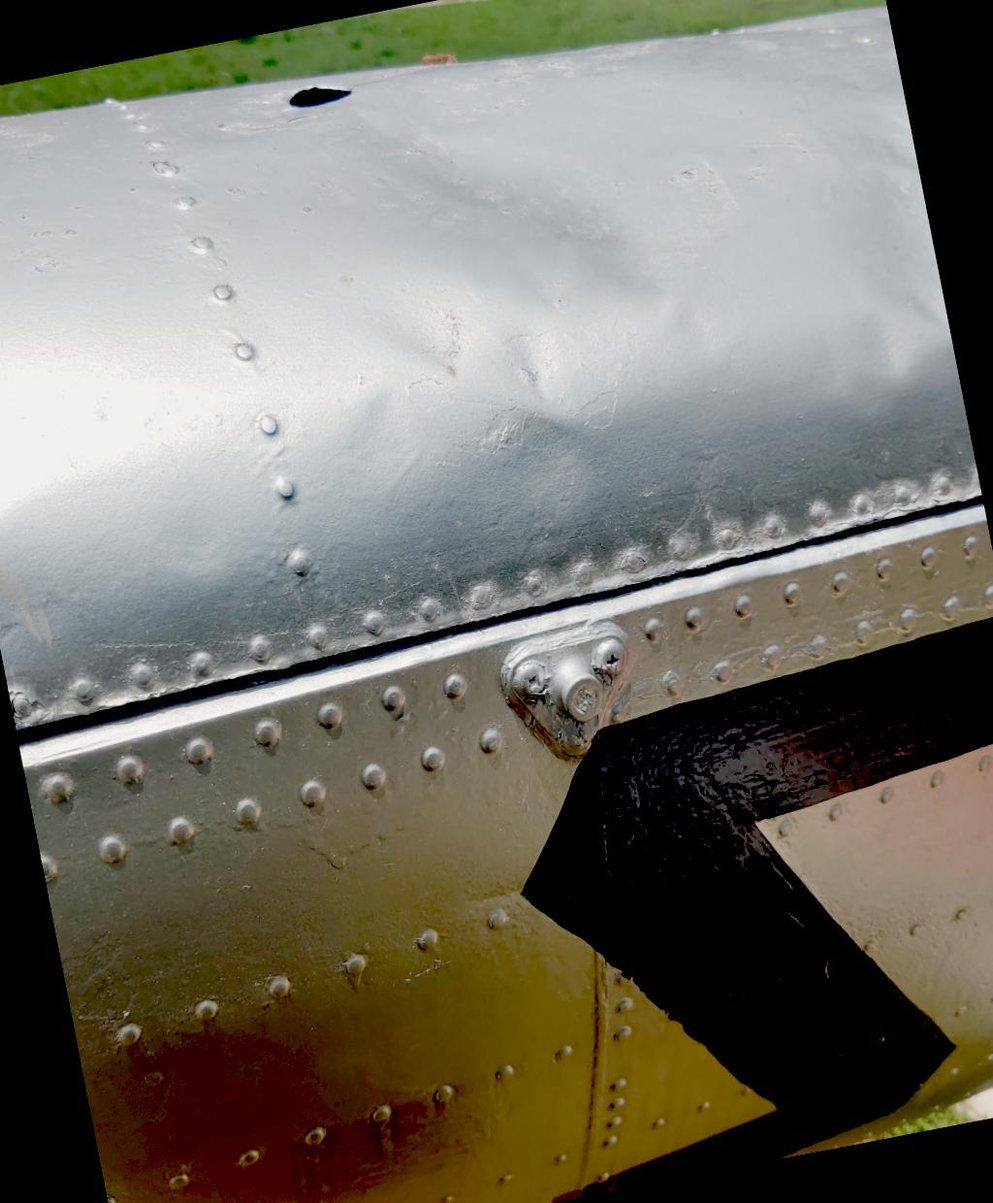dent: (363, 53, 720, 389), (806, 239, 966, 440), (474, 383, 613, 544)
